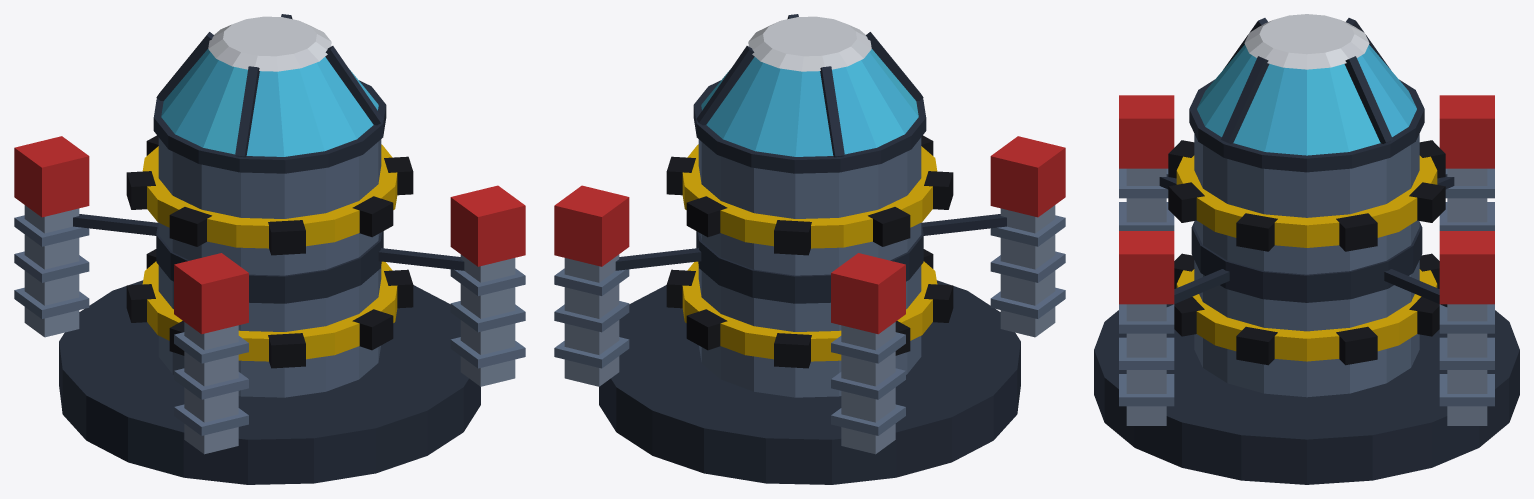
The model's file is Decor_MechaHangar_Reactor.fbx.
3 views of the same model, side by side, from view 1: azimuth 30°, elevation 25°; view 2: azimuth 150°, elevation 25°; view 3: azimuth 270°, elevation 25° (orthographic).
Visible parts, largest first — view 1: Reactor_Body; view 2: Reactor_Body; view 3: Reactor_Body.
Part boxes in pixels (<box>): Reactor_Body: <box>14,14,525,484</box>; Reactor_Body: <box>554,14,1065,484</box>; Reactor_Body: <box>1094,14,1519,484</box>.
Bounding box in the file's own units: 17 × 15.9 × 17.
